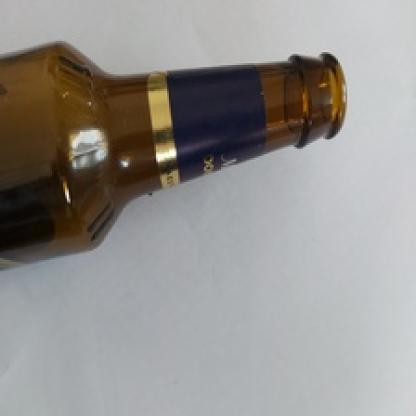Can: (0, 22, 372, 312)
